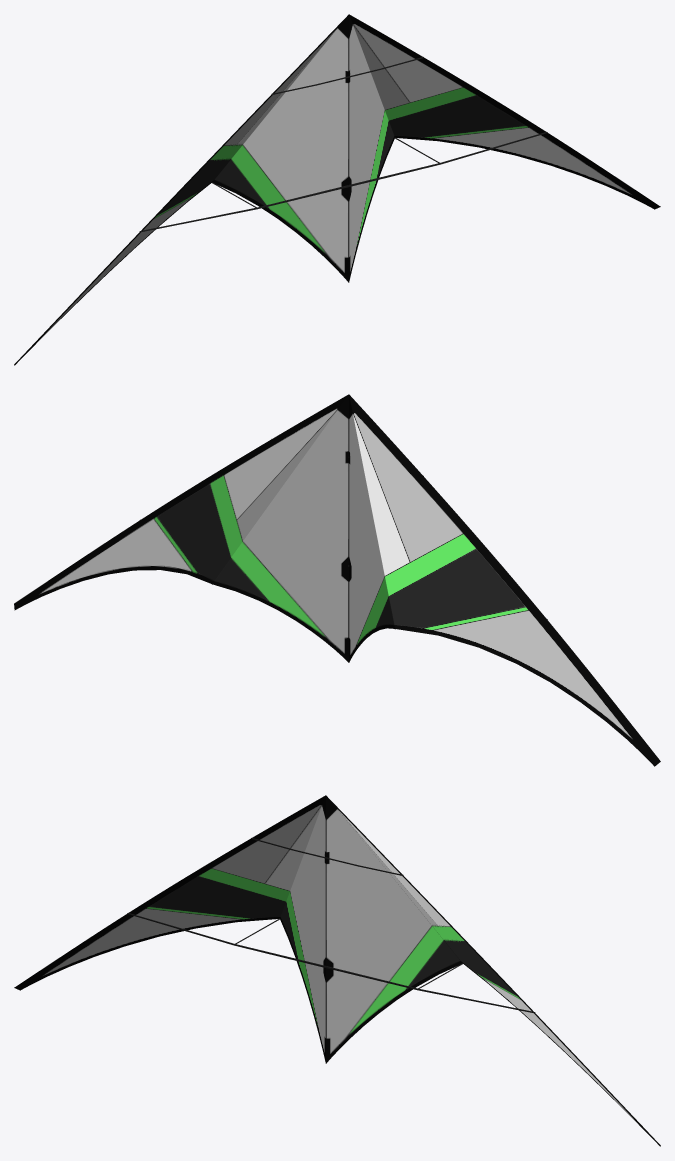
File: Escape-2020.obj
3 views of the same model, one above another, from view 1: azimuth 30°, elevation 25°; view 2: azimuth 150°, elevation 25°; view 3: azimuth 330°, elevation 25° (orthographic).
Bounding box in the file's own units: 2266 × 950 × 277.
Materials: 3 (2 with a texture image).
